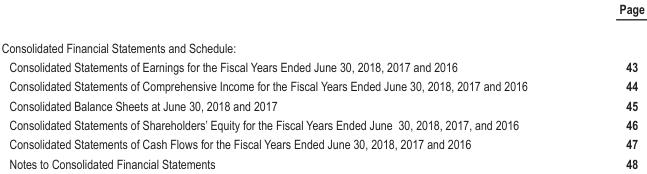table: (0, 0, 643, 170)
table column: (0, 0, 572, 170), (572, 0, 643, 170)
table column header: (0, 0, 643, 27)
table projected row header: (0, 27, 643, 56)
table row: (0, 27, 643, 56), (0, 0, 643, 27), (0, 75, 643, 95), (0, 114, 643, 134), (0, 56, 643, 75), (0, 95, 643, 114), (0, 134, 643, 153), (0, 153, 643, 170)
